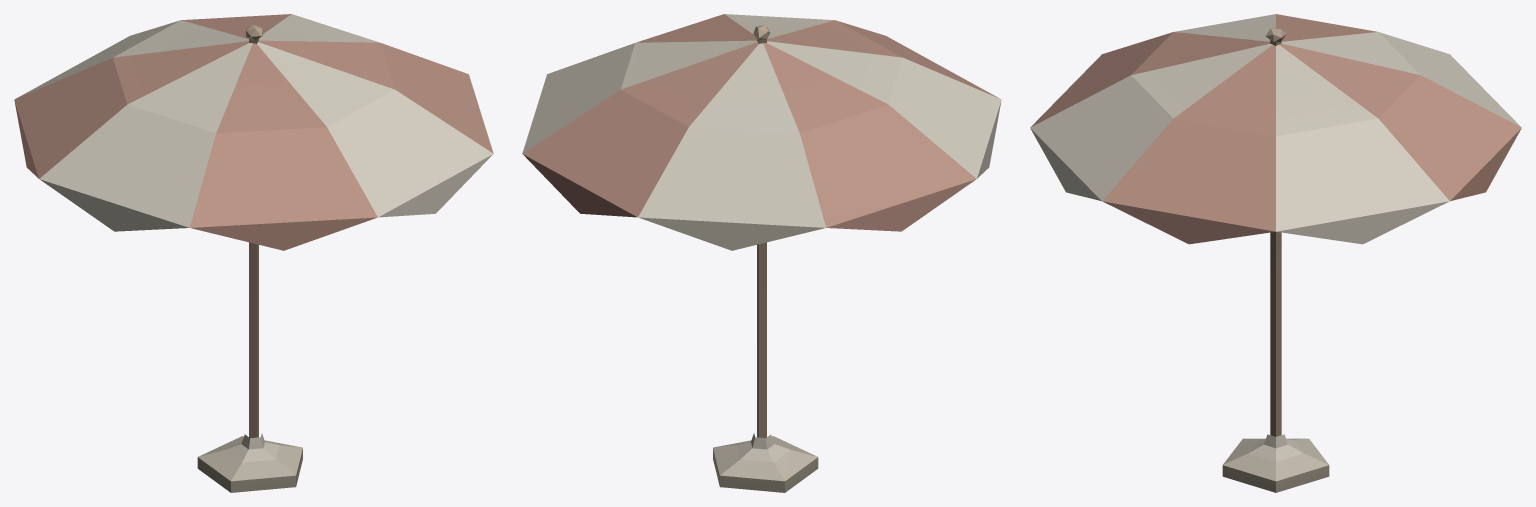
Rendered from parasol.lod1.glb.
3 renders of one model, left to right at view 1: azimuth 30°, elevation 25°; view 2: azimuth 150°, elevation 25°; view 3: azimuth 270°, elevation 25°, orthographic.
Bounding box in the file's own units: 2.72 × 2.68 × 2.72.
